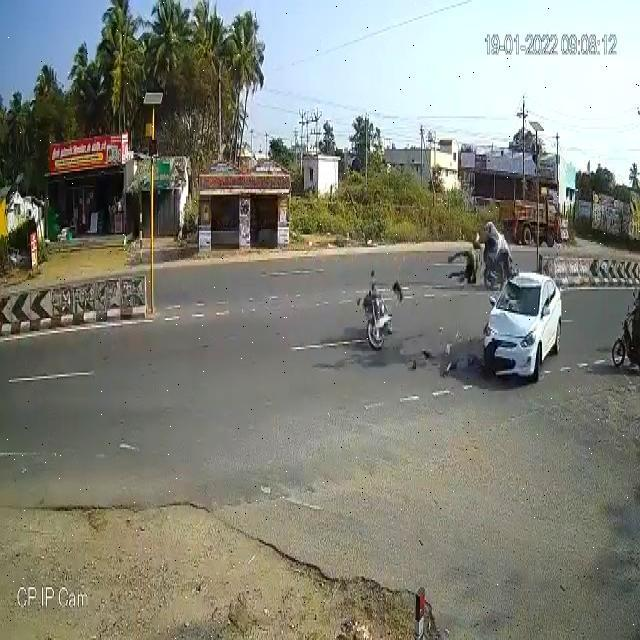accident: (476, 264, 564, 381)
